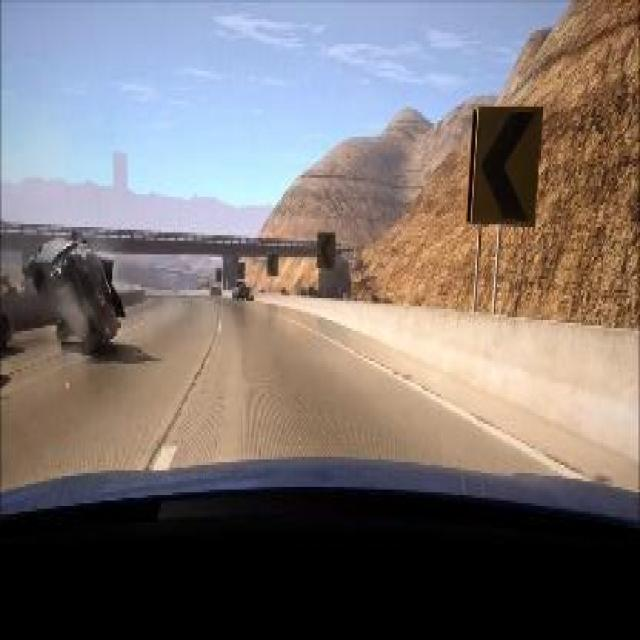accident: (23, 230, 122, 356)
